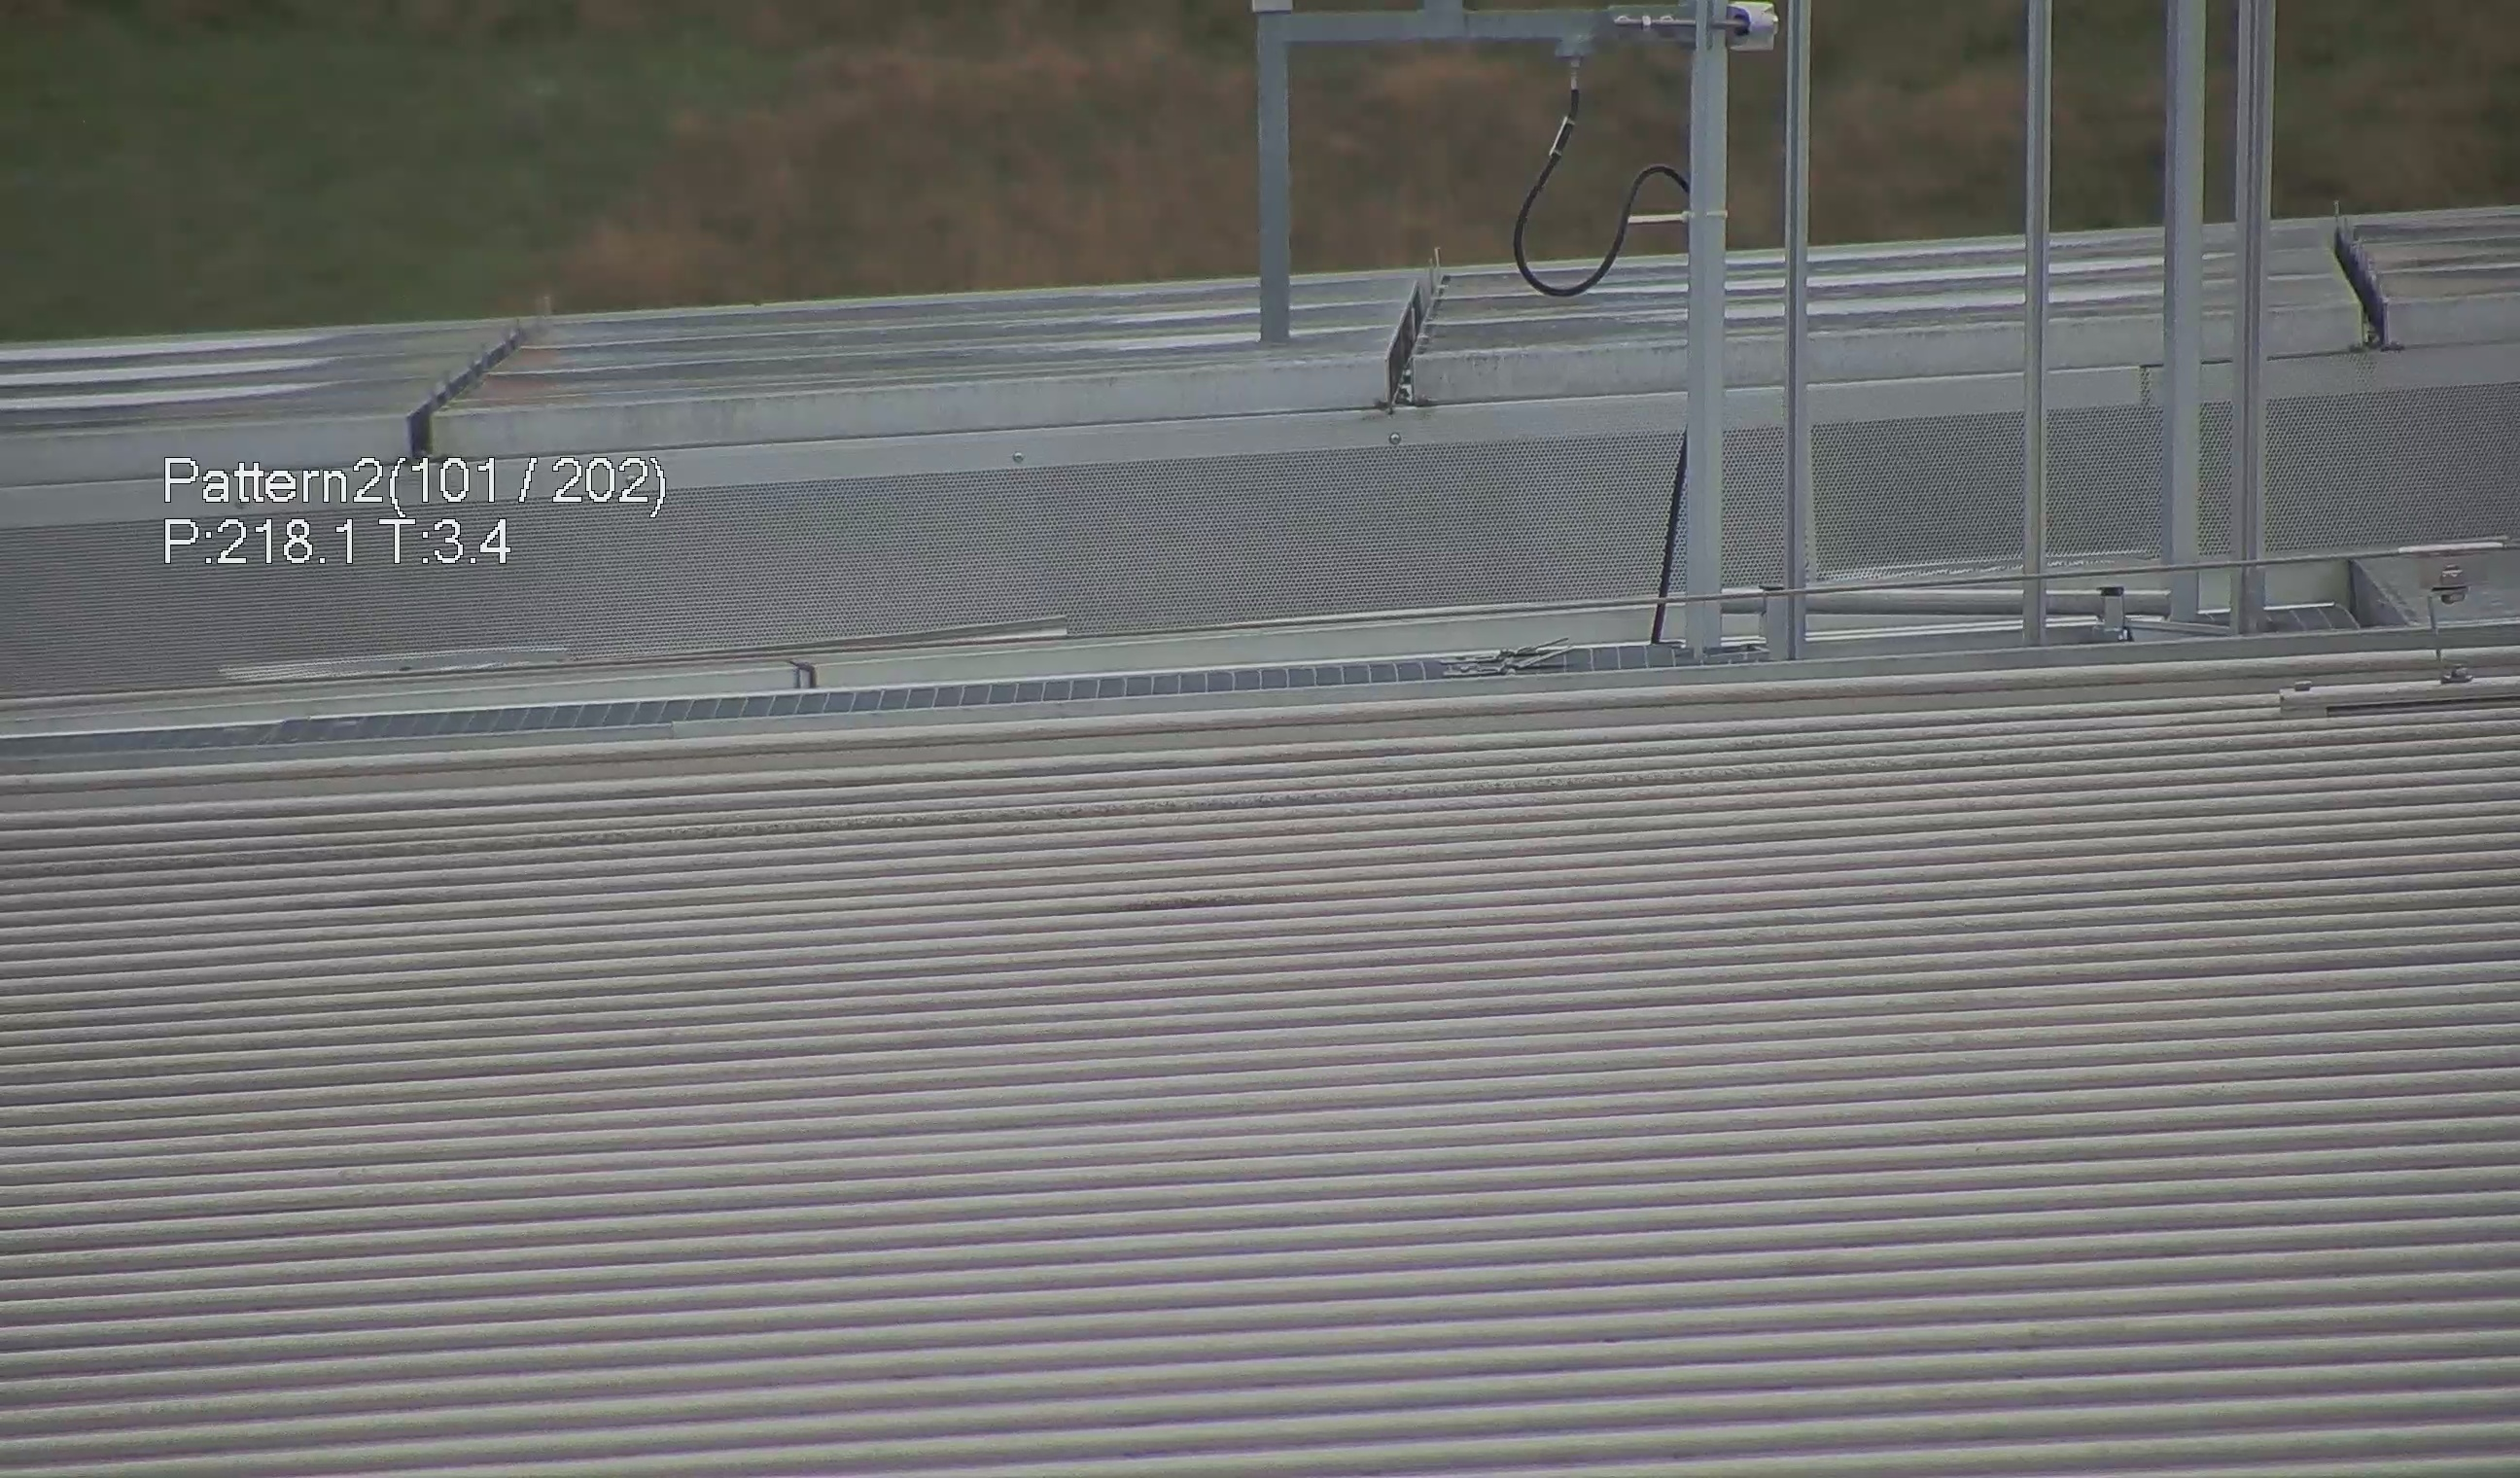Other: (2332, 194, 2423, 362)
